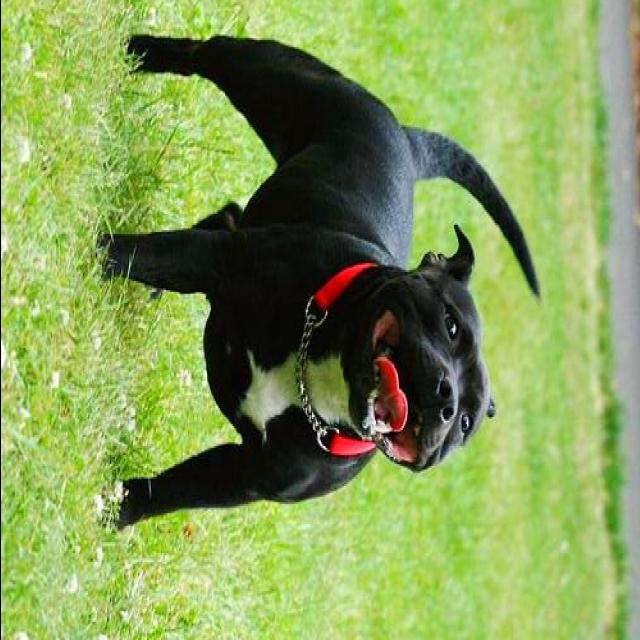staffordshire_bullterrier: (96, 42, 540, 522)
